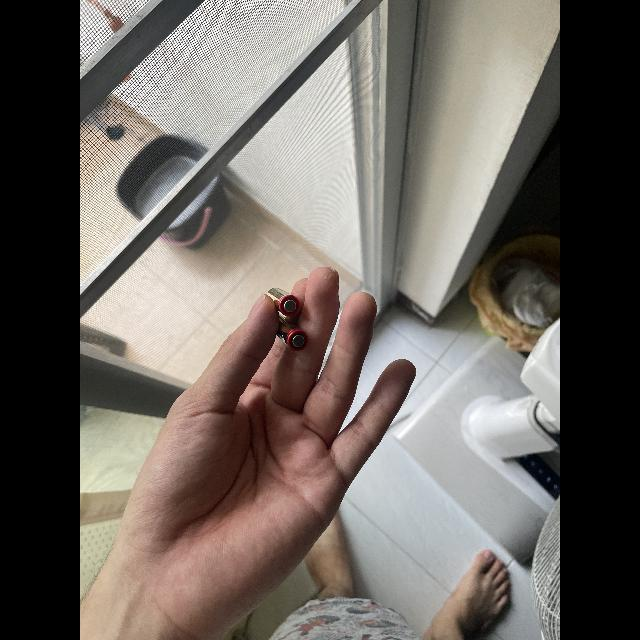battery: (264, 286, 303, 319), (276, 316, 308, 352)
